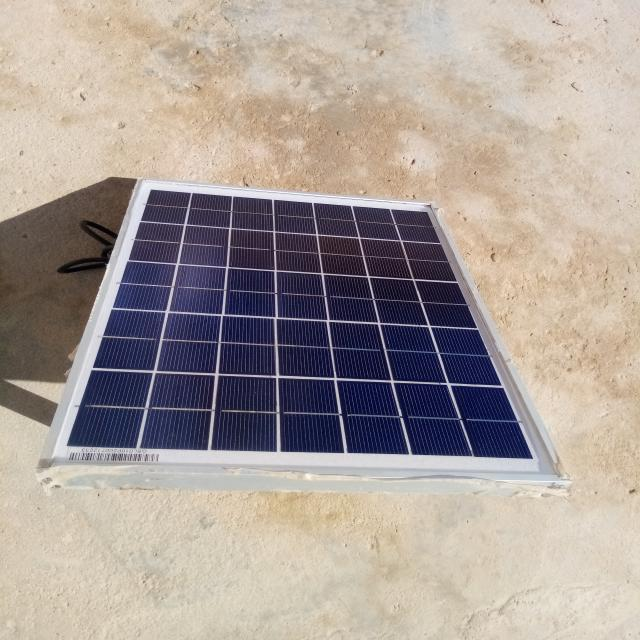no faulty: (47, 180, 564, 482)
